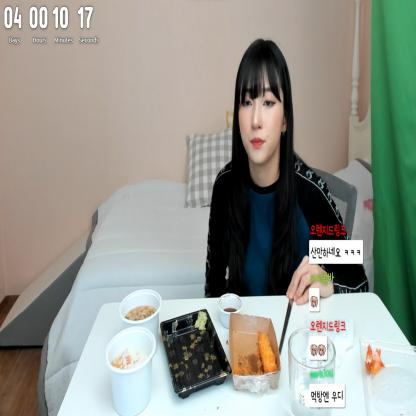streamer: (205, 38, 370, 307)
